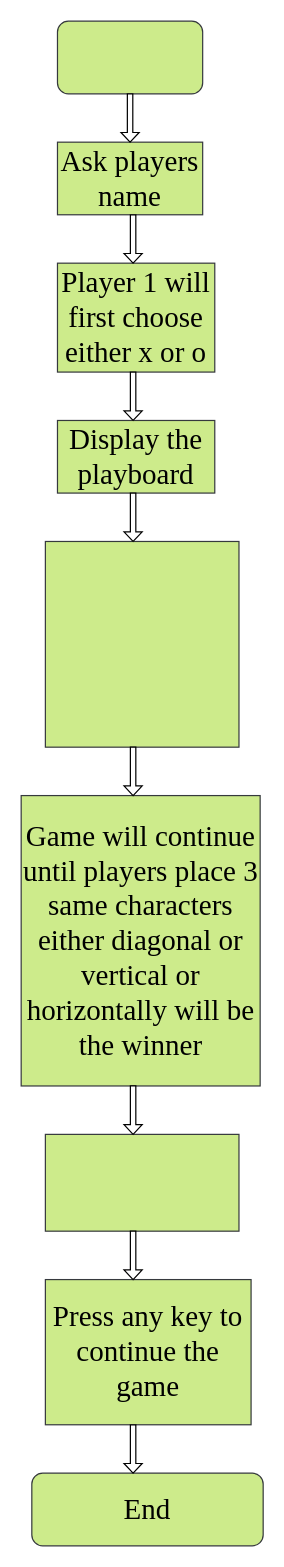
This 284x1567 diagram has some shape labels left out. The box of each missing label's shape, as (x1, y1, x2, y2) in pixels:
Player 1 will start game by placing either x or o in the spaces of 3x3 grid: (44, 540, 239, 747)
Start: (56, 20, 203, 94)
Winner will be announced: (44, 1133, 239, 1231)
